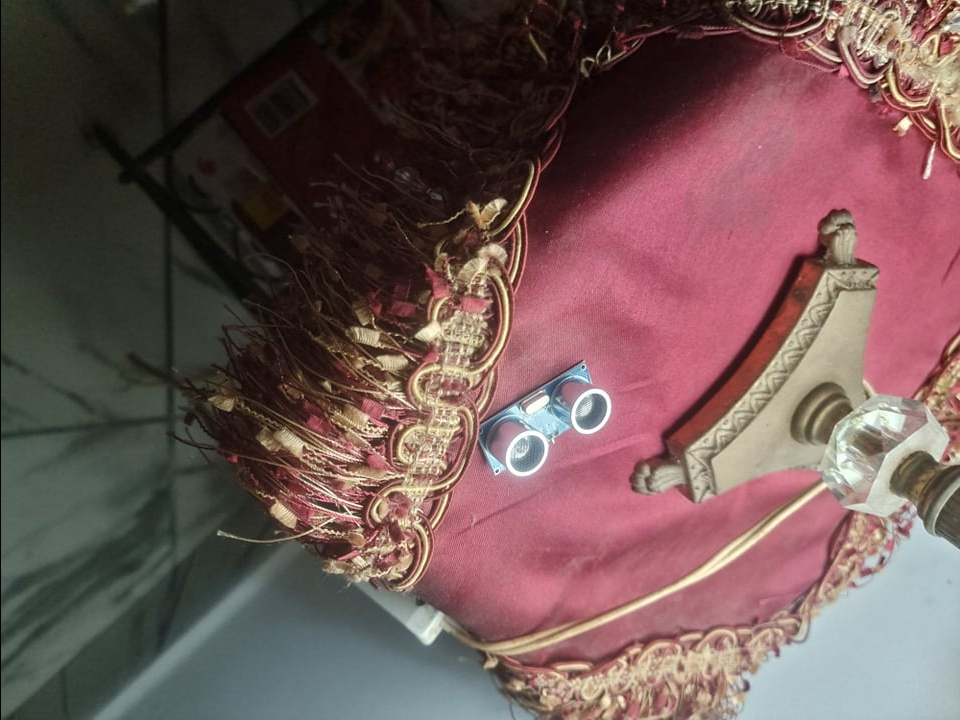SENSOR: (474, 359, 613, 479)
